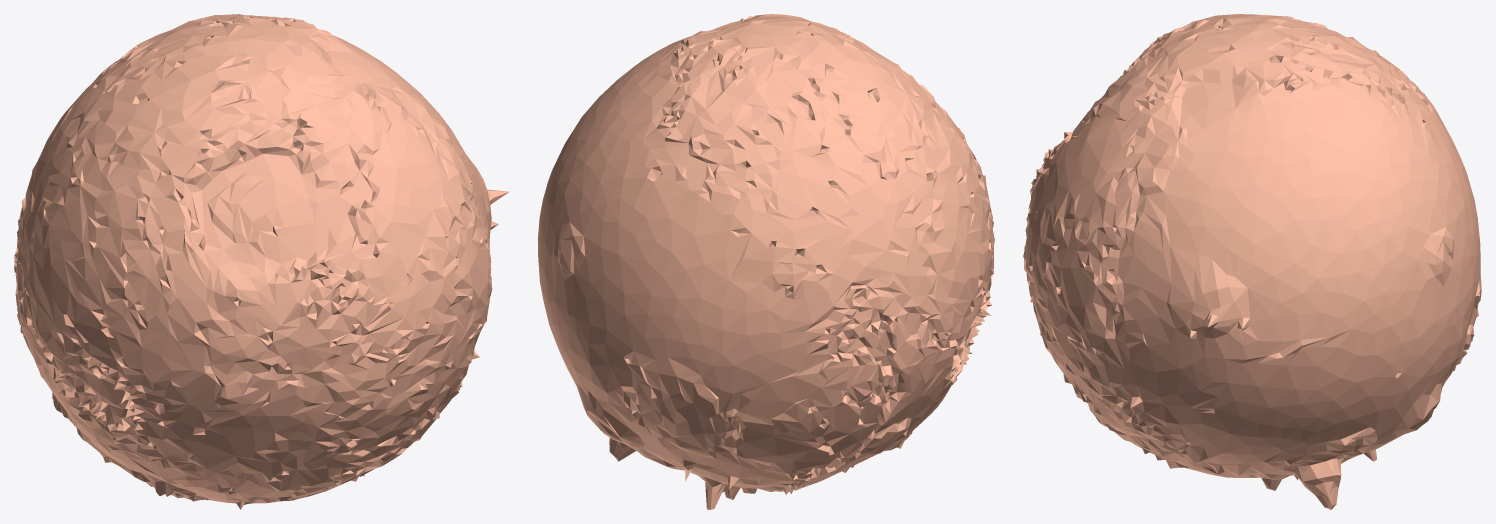
File: mars.glb
The picture shows the model from 3 angles, left to right: view 1: azimuth 30°, elevation 25°; view 2: azimuth 150°, elevation 25°; view 3: azimuth 270°, elevation 25°; orthographic projection. The views are drawn at different scales.
Visible parts, largest first — view 1: Mars; view 2: Mars; view 3: Mars.
Boxes of the visible parts, x1,y1,x2,y2 form: Mars: (14,14,509,509); Mars: (538,14,994,509); Mars: (1023,14,1481,509).
Bounding box in the file's own units: 0.2548 × 0.2617 × 0.2416.
